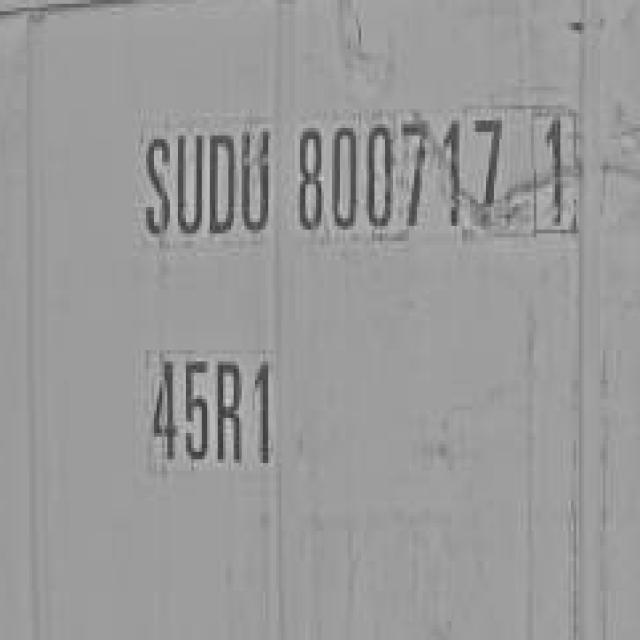dv: (523, 101, 585, 241)
owner: (126, 110, 275, 252)
serial: (286, 112, 504, 253)
size: (132, 334, 282, 481)
